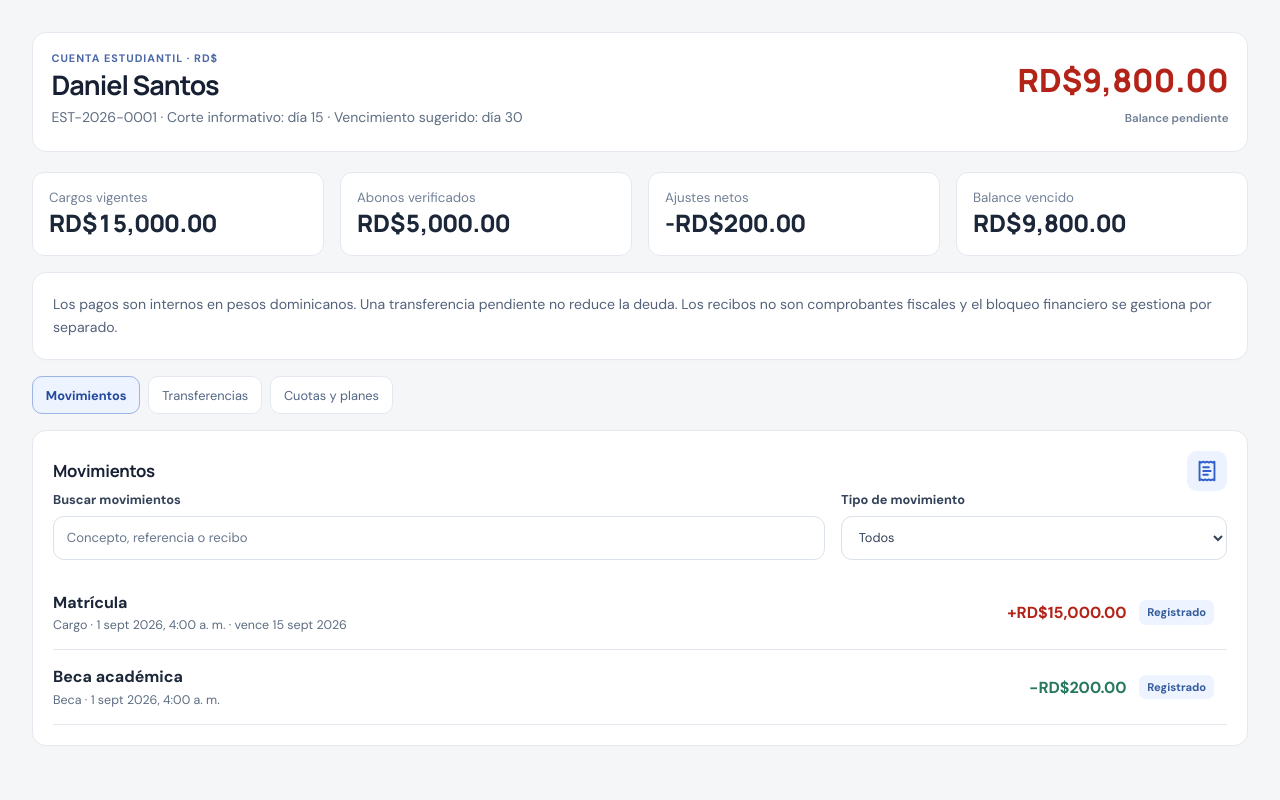
it: shows adjustments and hides administrative posting and simulation from students
The image size is (1280, 800).
Expected: the heading "Daniel Santos" is shown, [51,66,219,103]
Expected: the text "Balance pendiente" is shown, [1125,111,1229,126]
Click the button "Transferencias" at (205, 395), box [148,376,262,414]
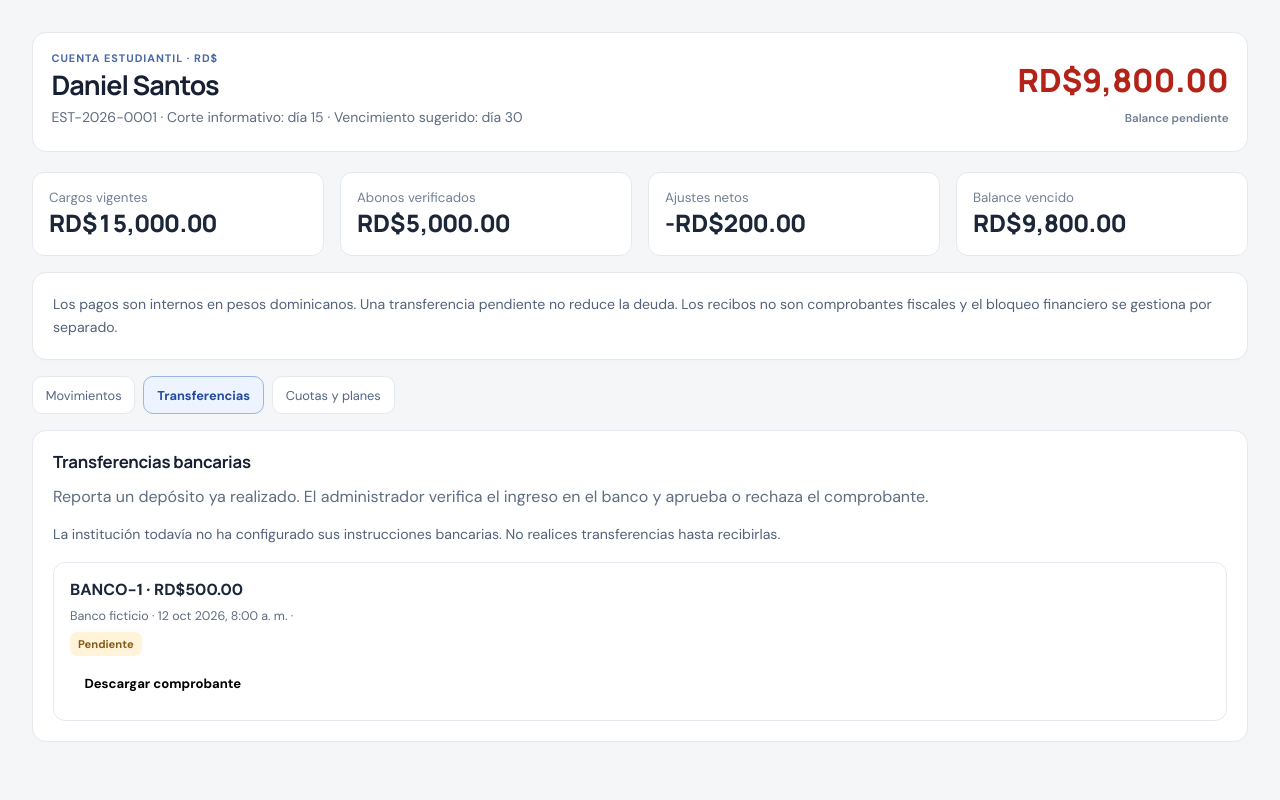
Result: the text "BANCO-1 · RD$500.00" is shown at [70,579,243,600]
Result: the text "No realices transferencias hasta recibirlas" is shown at [53,525,780,543]
Result: the text "Pendiente" is shown at [70,632,142,656]
